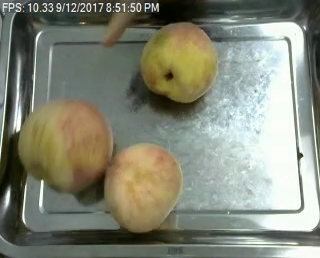Peach: (19, 98, 114, 191), (104, 142, 183, 232), (140, 22, 218, 102)
